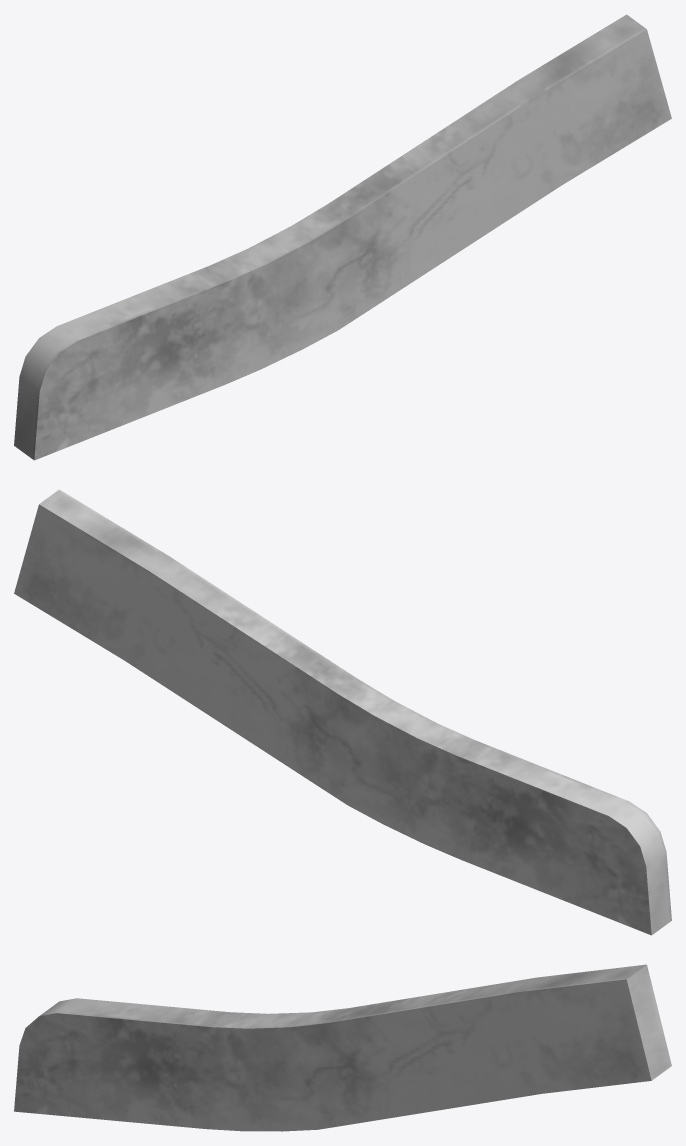
Rendered from f1_colider.fbx.
3 views of the same model, one above another, from view 1: azimuth 30°, elevation 25°; view 2: azimuth 150°, elevation 25°; view 3: azimuth 330°, elevation 25° (orthographic).
Parts seen in each view (by area): view 1: f1; view 2: f1; view 3: f1.
Part boxes in pixels (left/top/right/bottom): f1: left=14, top=14, right=671, bottom=460; f1: left=14, top=489, right=671, bottom=935; f1: left=14, top=964, right=671, bottom=1131.
Bounding box in the file's own units: 56.8 × 23.98 × 3.13.
